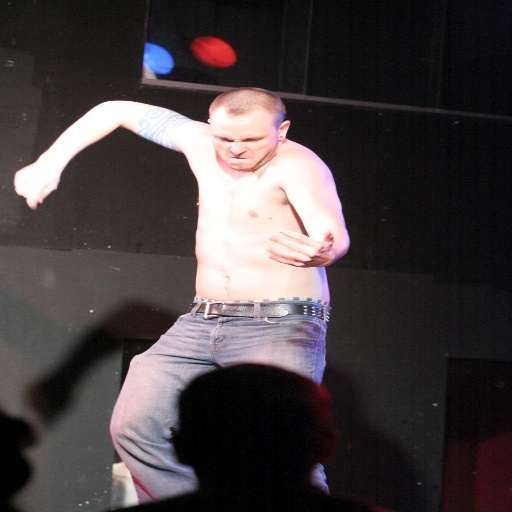hand: (275, 223, 343, 263), (13, 161, 58, 210)
